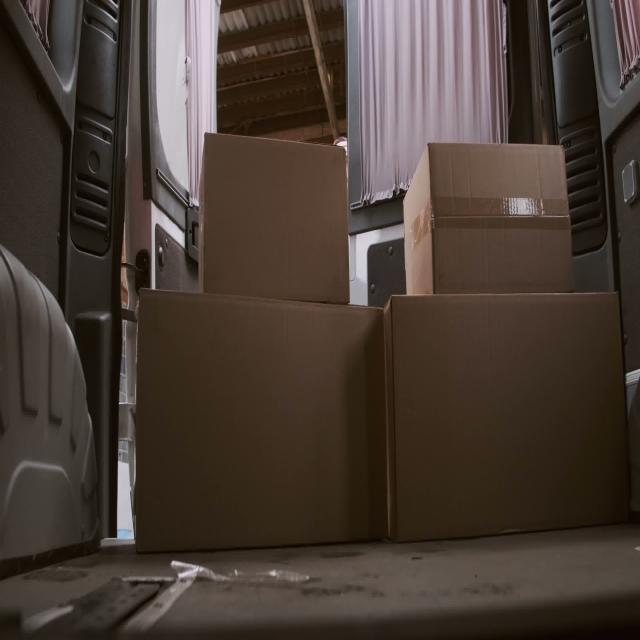counting-the-number-of-boxes: (136, 288, 389, 554), (383, 291, 632, 544), (403, 142, 574, 295), (198, 136, 350, 306)
